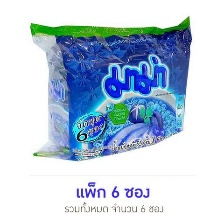snack: (22, 10, 199, 165)
